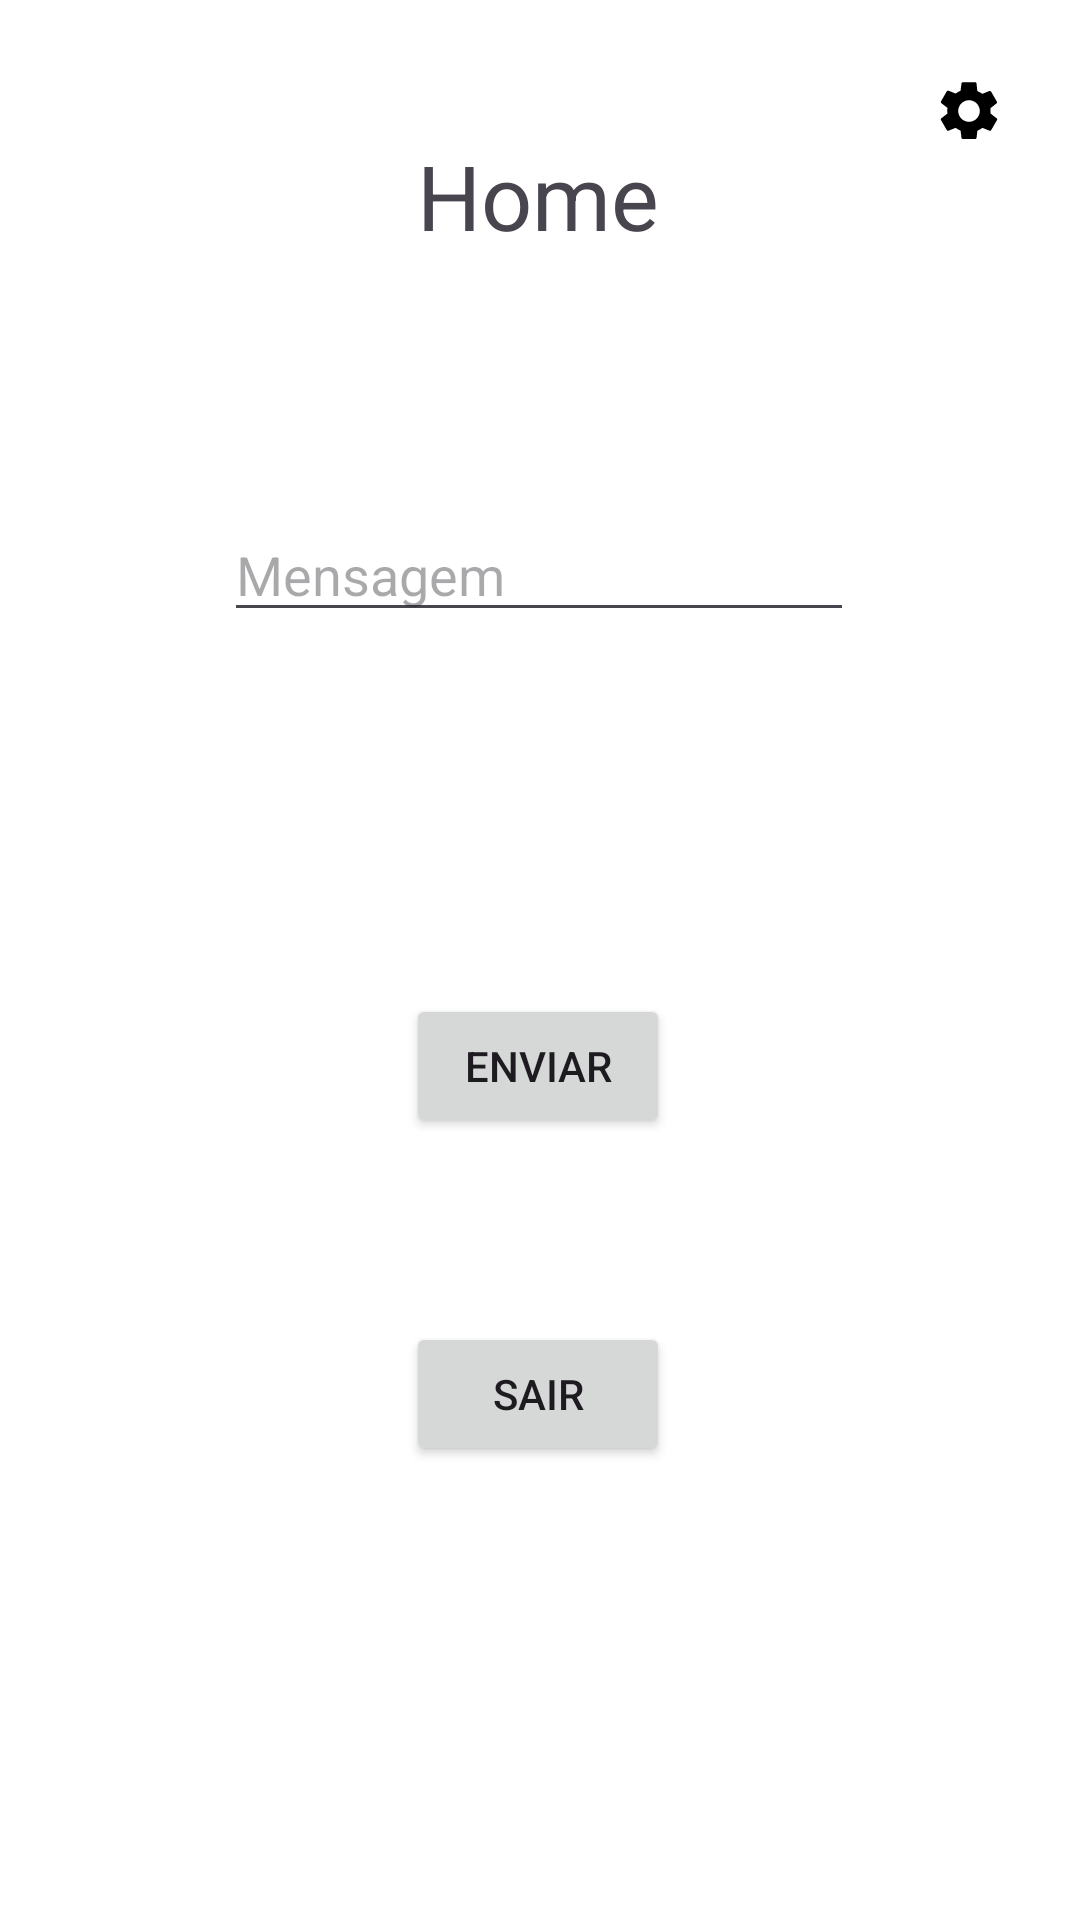

Locate icon controls on the screen. Image size 1080 x 1920, boxes as bbox=(x1, y1, x2, y2).
Configurações: bbox=(940, 82, 998, 139)
